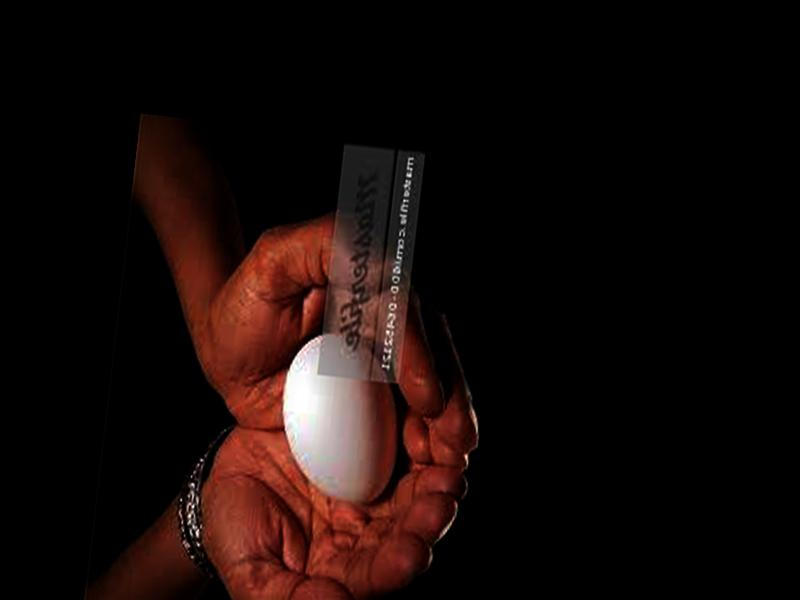Eggs: (271, 329, 411, 509)
